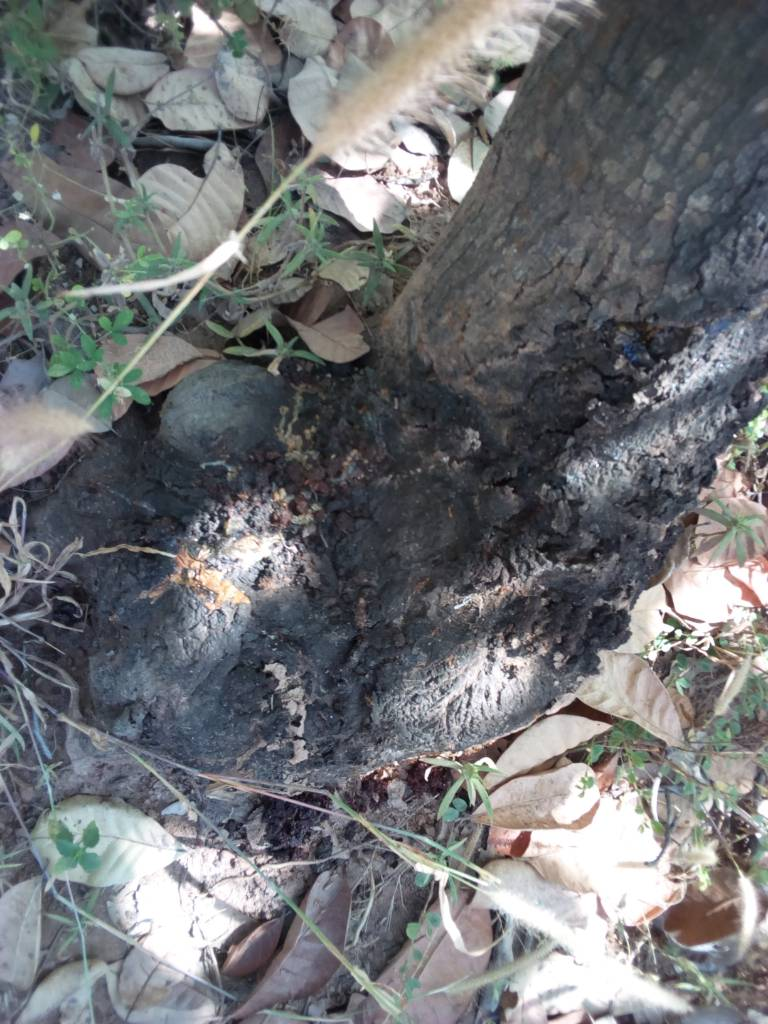Termites: (80, 450, 585, 749)
